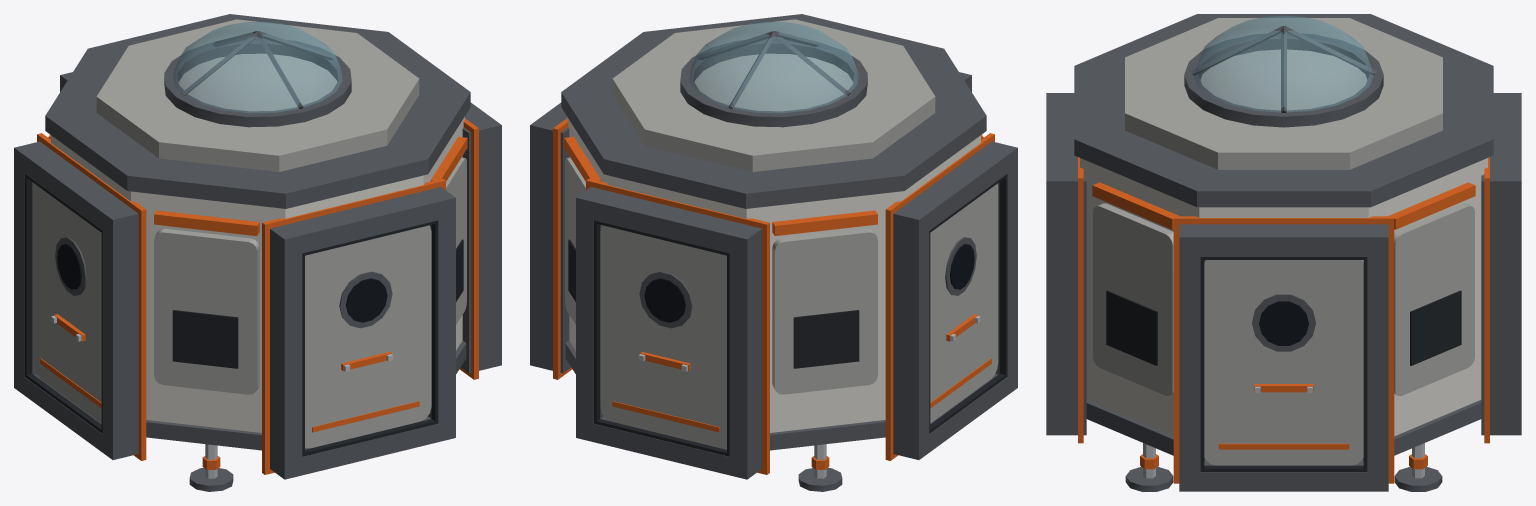
The model's file is node_hub.glb.
3 views of the same model, side by side, from view 1: azimuth 30°, elevation 25°; view 2: azimuth 150°, elevation 25°; view 3: azimuth 270°, elevation 25° (orthographic). The views are drawn at different scales.
Visible parts, largest first — view 1: body, hatch_n, hatch_w; view 2: body, hatch_s, hatch_w; view 3: body, hatch_e.
Boxes of the visible parts, x1,y1,x2,y2 form: body: [14, 14, 501, 491]; hatch_n: [305, 225, 431, 448]; hatch_w: [33, 183, 101, 423]; body: [530, 14, 1017, 491]; hatch_s: [600, 225, 726, 448]; hatch_w: [930, 183, 998, 423]; body: [1046, 14, 1521, 491]; hatch_e: [1204, 260, 1363, 465].
Bounding box in the file's own units: 4 × 3.71 × 4.
